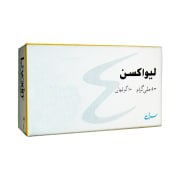Medicine: (16, 40, 167, 136)
